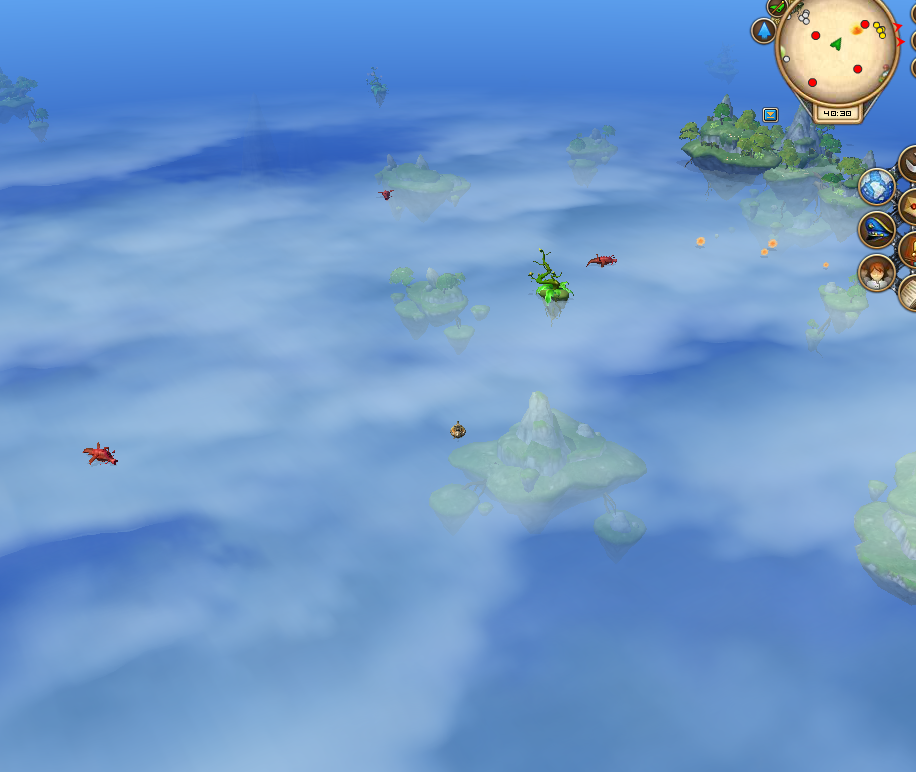dandelion-empty: (525, 245, 574, 318)
dandelion-full: (364, 62, 390, 107)
fluff: (692, 234, 708, 251), (766, 237, 780, 252), (759, 246, 769, 258), (820, 260, 830, 271)
